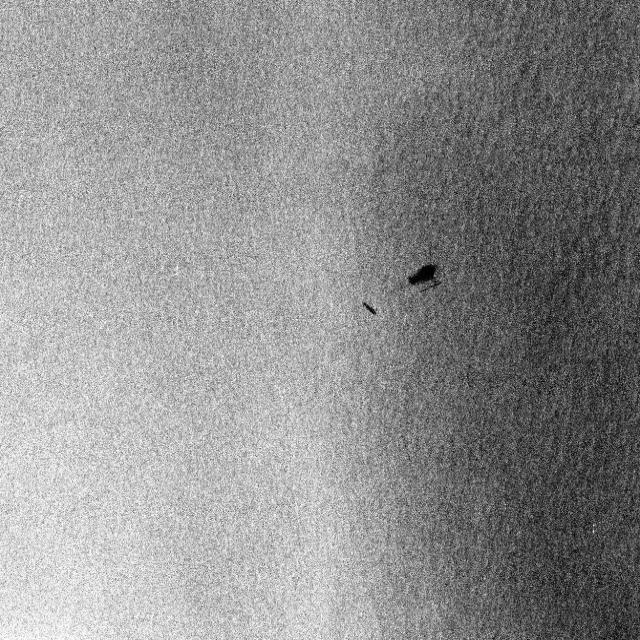oil-spill: (405, 257, 444, 298), (358, 295, 381, 327)
